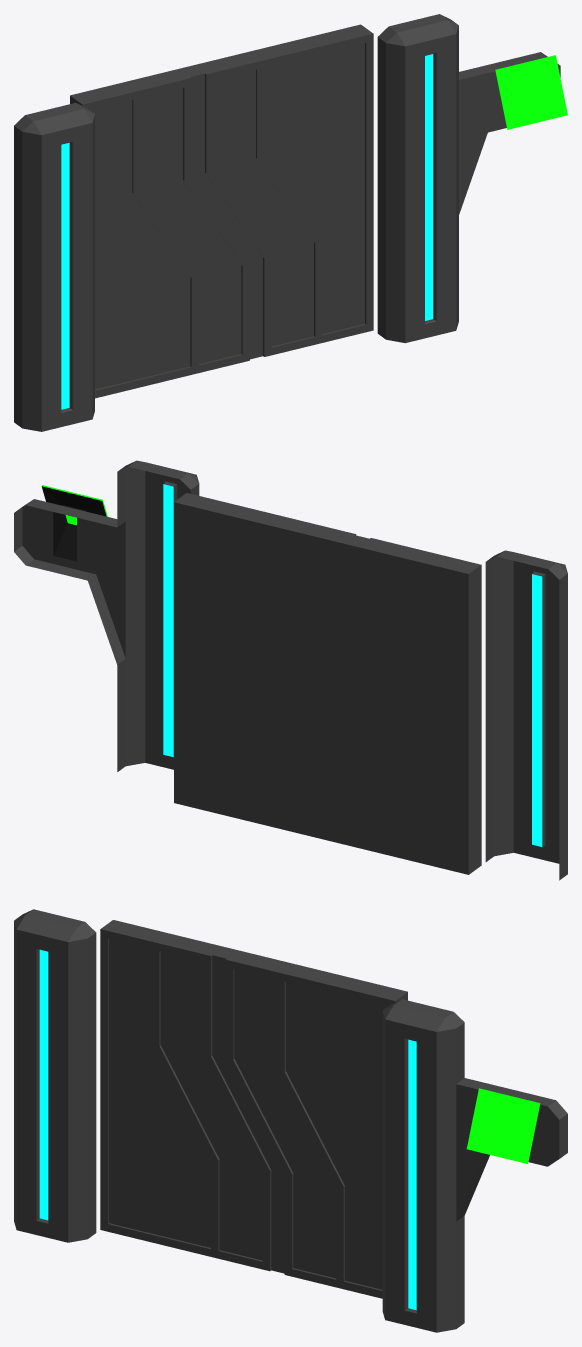
File: Doorframe.fbx
3 renders of one model, top to bottom at view 1: azimuth 30°, elevation 25°; view 2: azimuth 150°, elevation 25°; view 3: azimuth 330°, elevation 25°, orthographic.
Visible parts, largest first — view 1: Doorframe, DoorR, DoorL; view 2: Doorframe, DoorL, DoorR; view 3: Doorframe, DoorL, DoorR.
Boxes of the visible parts, x1,y1,x2,y2 form: Doorframe: (14,14,567,431); DoorR: (187,24,373,357); DoorL: (70,67,255,398); Doorframe: (14,460,567,880); DoorL: (292,537,481,874); DoorR: (174,493,361,831); Doorframe: (14,909,567,1332); DoorL: (100,920,278,1271); DoorR: (219,948,407,1298).
Bounding box in the file's own units: 370 × 200 × 53.24.
